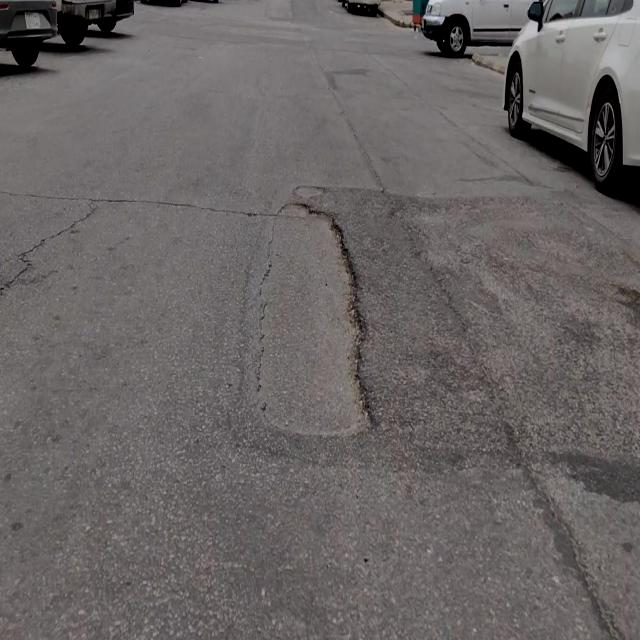Potholes: (256, 200, 378, 440)
